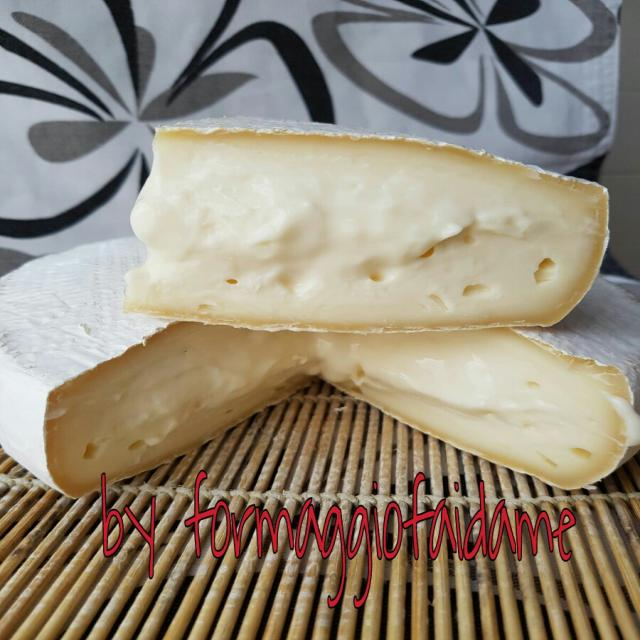Cheese: (8, 212, 640, 519), (133, 113, 611, 338)
